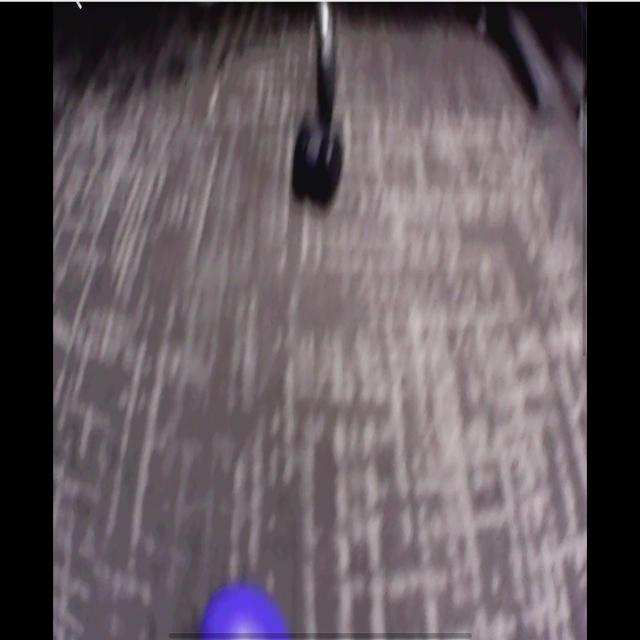ball: (203, 587, 287, 638)
